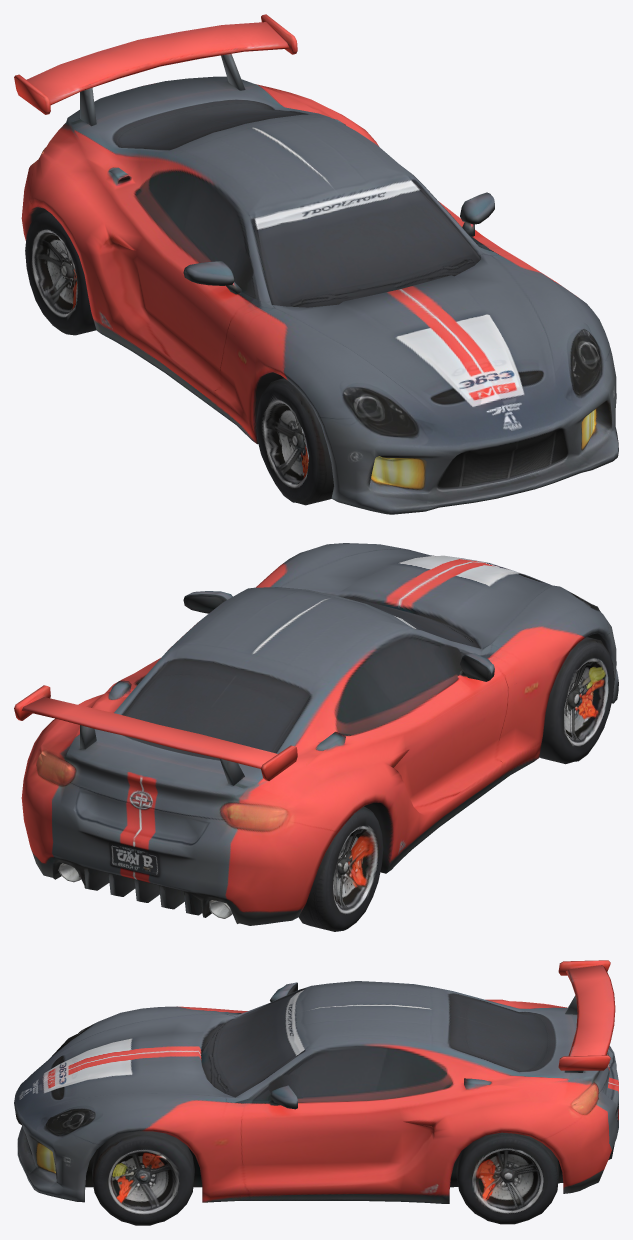
Rendered from car2.glb.
The picture shows the model from 3 angles, top to bottom: view 1: azimuth 30°, elevation 25°; view 2: azimuth 150°, elevation 25°; view 3: azimuth 270°, elevation 25°; orthographic projection. The views are drawn at different scales.
Visible parts, largest first — view 1: tripo_node_b7ce035c-09c5-47c2-ac0d-5a5c99dffad7; view 2: tripo_node_b7ce035c-09c5-47c2-ac0d-5a5c99dffad7; view 3: tripo_node_b7ce035c-09c5-47c2-ac0d-5a5c99dffad7.
Part boxes in pixels (x1=…): tripo_node_b7ce035c-09c5-47c2-ac0d-5a5c99dffad7: x1=14, y1=14, x2=618, y2=514; tripo_node_b7ce035c-09c5-47c2-ac0d-5a5c99dffad7: x1=14, y1=543, x2=618, y2=931; tripo_node_b7ce035c-09c5-47c2-ac0d-5a5c99dffad7: x1=14, y1=960, x2=618, y2=1225.
Bounding box in the file's own units: 0.4707 × 0.2988 × 0.998.
1 material, 1 textured.
